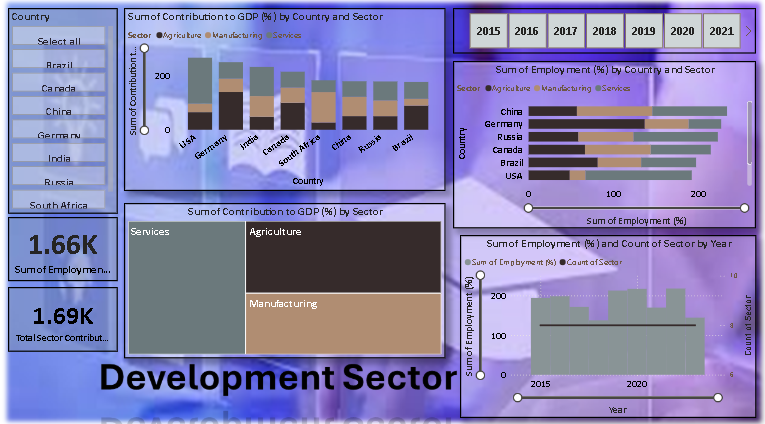

Layout of this report page (visuals, bound fields, positions):
{"tool":"powerbi","page":{"name":"Sector Development Analysis","canvas":[1280,720],"ordinal":1},"visuals":[{"type":"columnChart","fields":{"Category":["Sector_Development.Country"],"Series":["Sector_Development.Sector"],"Y":["Sum(Sector_Development.Contribution to GDP (%))"]},"box":[208.8,17.3,535.7,305.3],"z":0},{"type":"lineClusteredColumnComboChart","fields":{"Category":["Sector_Development.Year"],"Y2":["CountNonNull(Sector_Development.Sector)"],"Y":["Sum(Sector_Development.Employment (%))"]},"box":[769,394.6,493.9,305.3],"z":1000},{"type":"treemap","fields":{"Group":["Sector_Development.Sector"],"Values":["Sum(Sector_Development.Contribution to GDP (%))"]},"box":[208.8,341.3,535.7,259.2],"z":2000},{"type":"barChart","fields":{"Category":["Sector_Development.Country"],"Y":["Sum(Sector_Development.Employment (%))"],"Series":["Sector_Development.Sector"]},"box":[757.4,105.1,505.4,279.4],"z":3000},{"type":"card","fields":{"Values":["Sector_D_Measure.Total Sector Contribution"]},"box":[14.4,481,182.9,108],"z":4000},{"type":"card","fields":{"Values":["Sum(Sector_Development.Employment (%))"]},"box":[14.4,364.3,182.9,106.6],"z":5000},{"type":"advancedSlicerVisual","fields":{"Values":["Sector_Development.Country"]},"box":[14.4,17.3,182.9,342.7],"z":6000},{"type":"slicer","fields":{"Values":["Sector_Development.Year"]},"box":[757.4,17.3,505.4,76.3],"z":7000}]}

Visuals, with their boxes in screenshot pixels (x1, y1, x2, y2), scaled from the page's 1280x720 canvas onto the 765x424 screenshot:
columnChart - Sector_Development.Country x Sector_Development.Sector: BBox(125, 10, 445, 190)
lineClusteredColumnComboChart - Sector_Development.Year x CountNonNull(Sector_Development.Sector): BBox(460, 232, 755, 412)
treemap - Sector_Development.Sector x Sum(Sector_Development.Contribution to GDP (%)): BBox(125, 201, 445, 354)
barChart - Sector_Development.Country x Sum(Sector_Development.Employment (%)): BBox(453, 62, 755, 226)
card - Sector_D_Measure.Total Sector Contribution: BBox(9, 283, 118, 347)
card - Sum(Sector_Development.Employment (%)): BBox(9, 215, 118, 277)
advancedSlicerVisual - Sector_Development.Country: BBox(9, 10, 118, 212)
slicer - Sector_Development.Year: BBox(453, 10, 755, 55)
